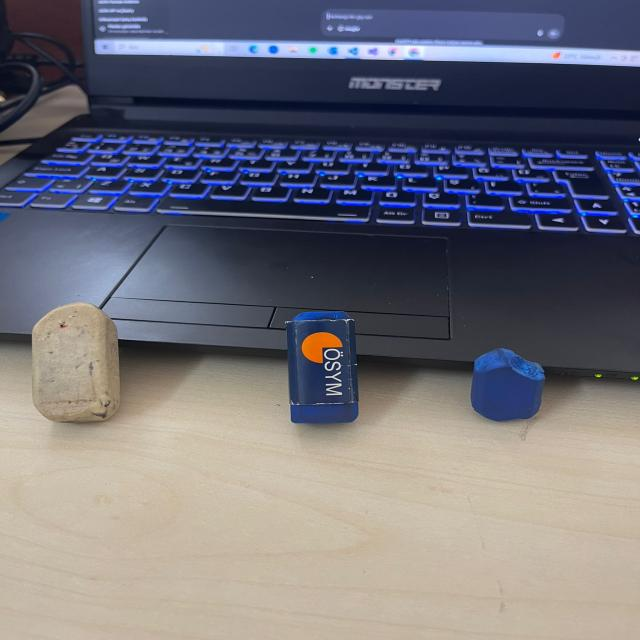eraser: (23, 293, 132, 442), (279, 302, 371, 429), (462, 340, 555, 440)
